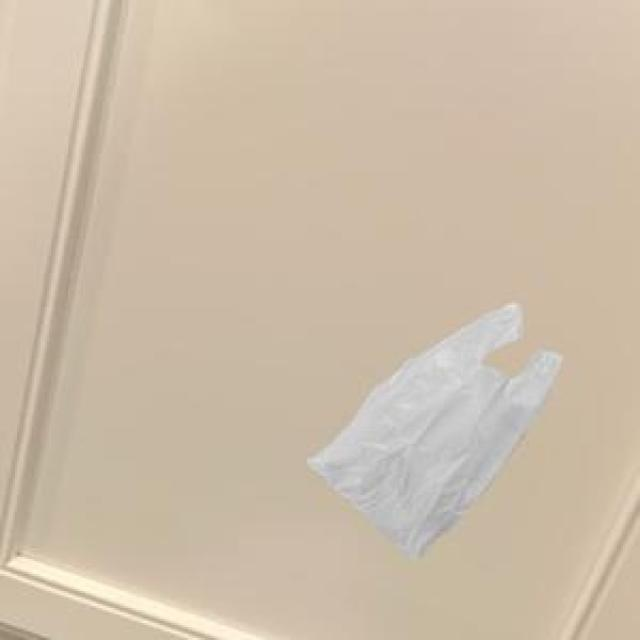waste: (308, 304, 562, 554)
